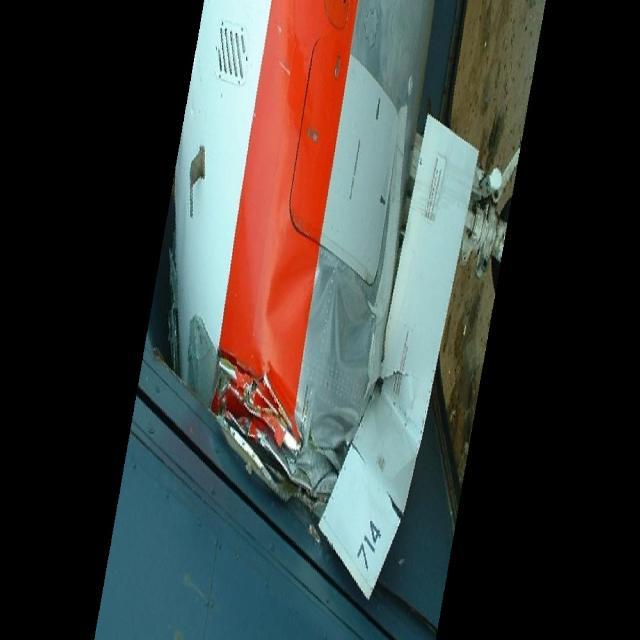dent: (271, 246, 383, 384)
